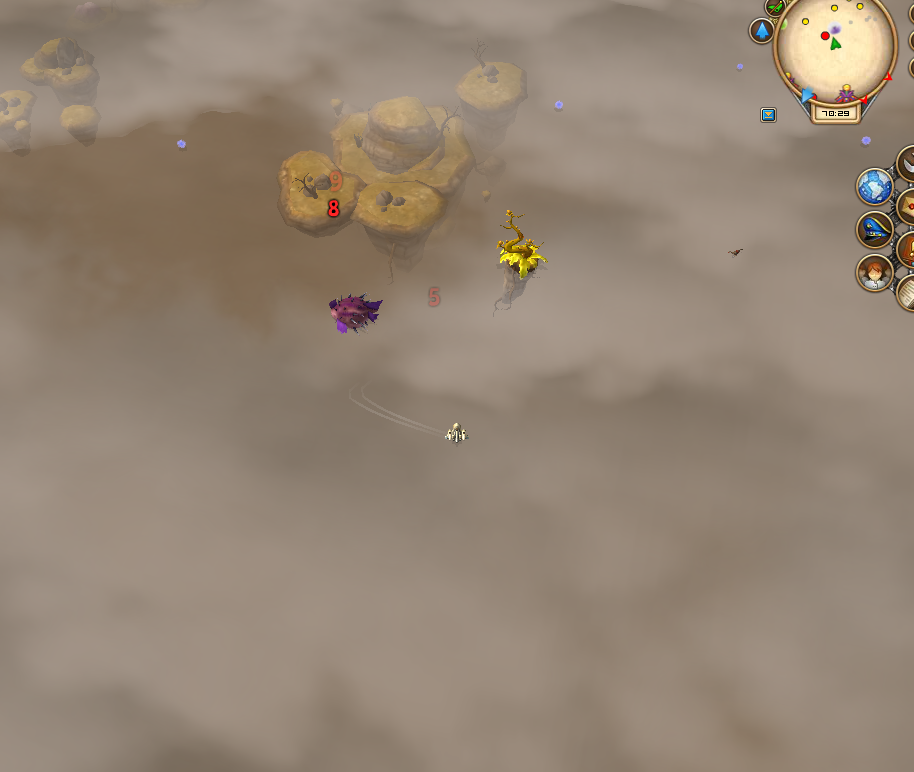dandelion-empty: (493, 201, 545, 309)
fluff: (173, 137, 189, 153), (733, 58, 747, 72), (554, 97, 566, 113)
